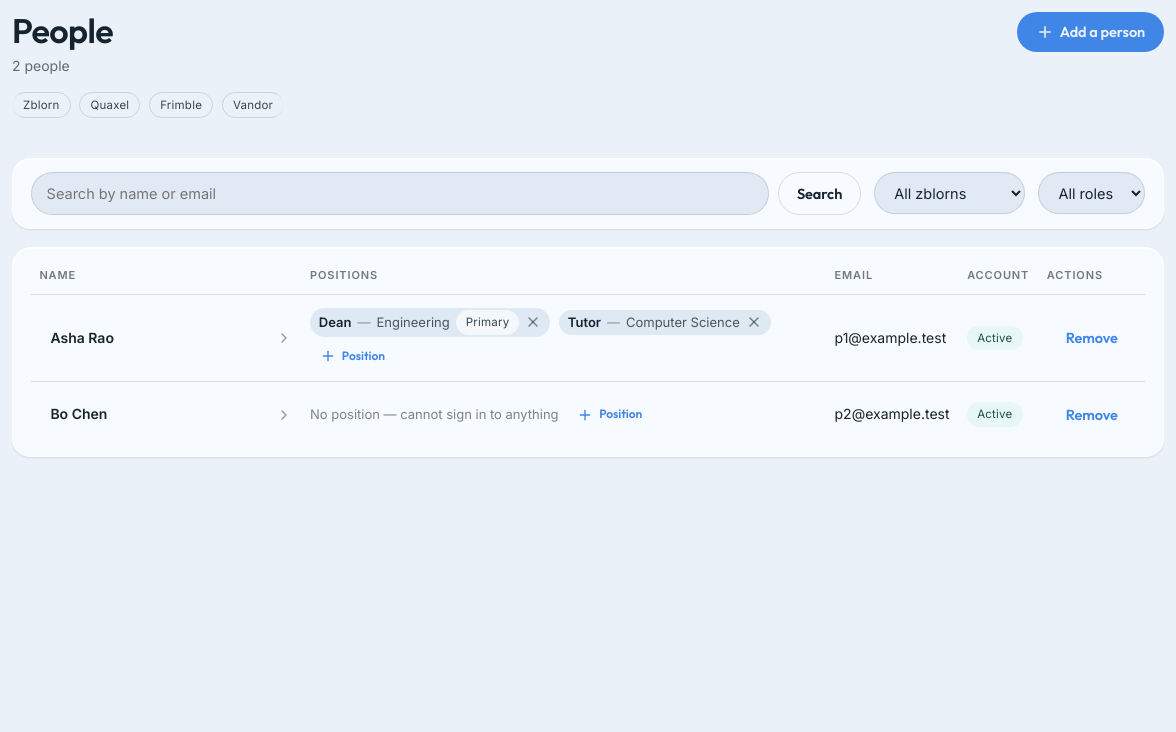
Test: positions › makes a first position primary by default, and asks from the second onwards
Click the button with class "btn-tiny" next to "No position — cannot sign in to anything" at coordinates (610, 415), box [567,404,652,426]
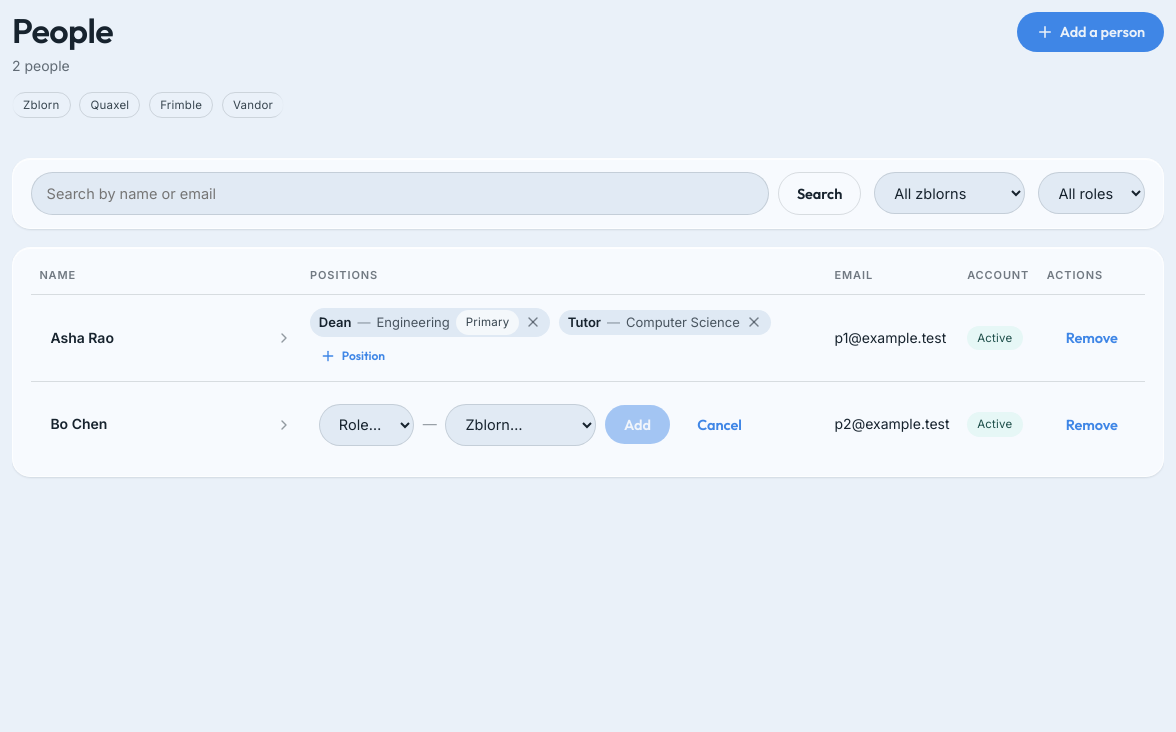
Click the button with class "btn-tiny" at coordinates (352, 356), box [310,345,395,367]
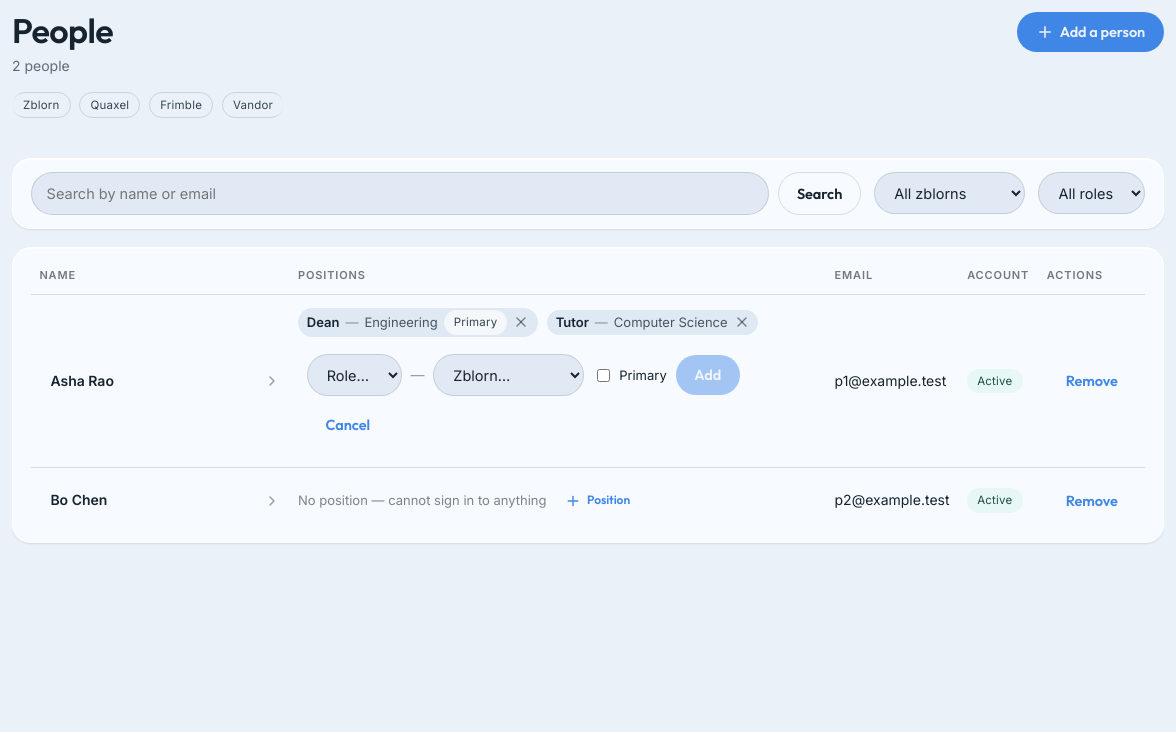
Check: the checkbox labelled "Primary" is shown, box [597,369,610,382]
